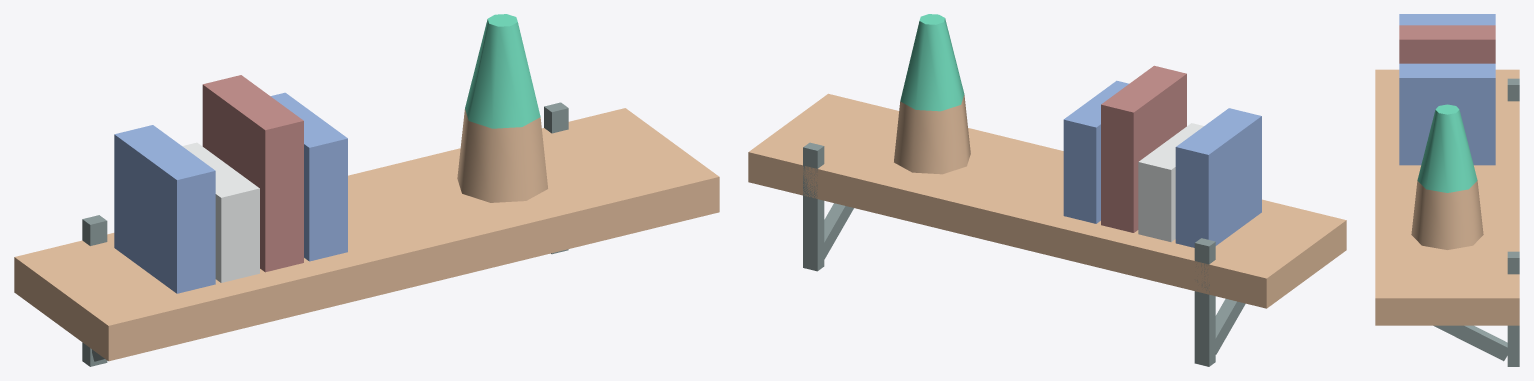
Rendered from wallShelfBracket.glb.
The picture shows the model from 3 angles, left to right: view 1: azimuth 30°, elevation 25°; view 2: azimuth 150°, elevation 25°; view 3: azimuth 270°, elevation 25°; orthographic projection. The views are drawn at different scales.
Visible parts, largest first — view 1: wallShelfBracket; view 2: wallShelfBracket; view 3: wallShelfBracket.
Part boxes in pixels (box(x1,y1,x2,y2)): wallShelfBracket: box(14, 14, 719, 366); wallShelfBracket: box(748, 14, 1346, 366); wallShelfBracket: box(1375, 14, 1519, 366).
Size of the model in its own units: 0.45 by 0.2 by 0.12.
